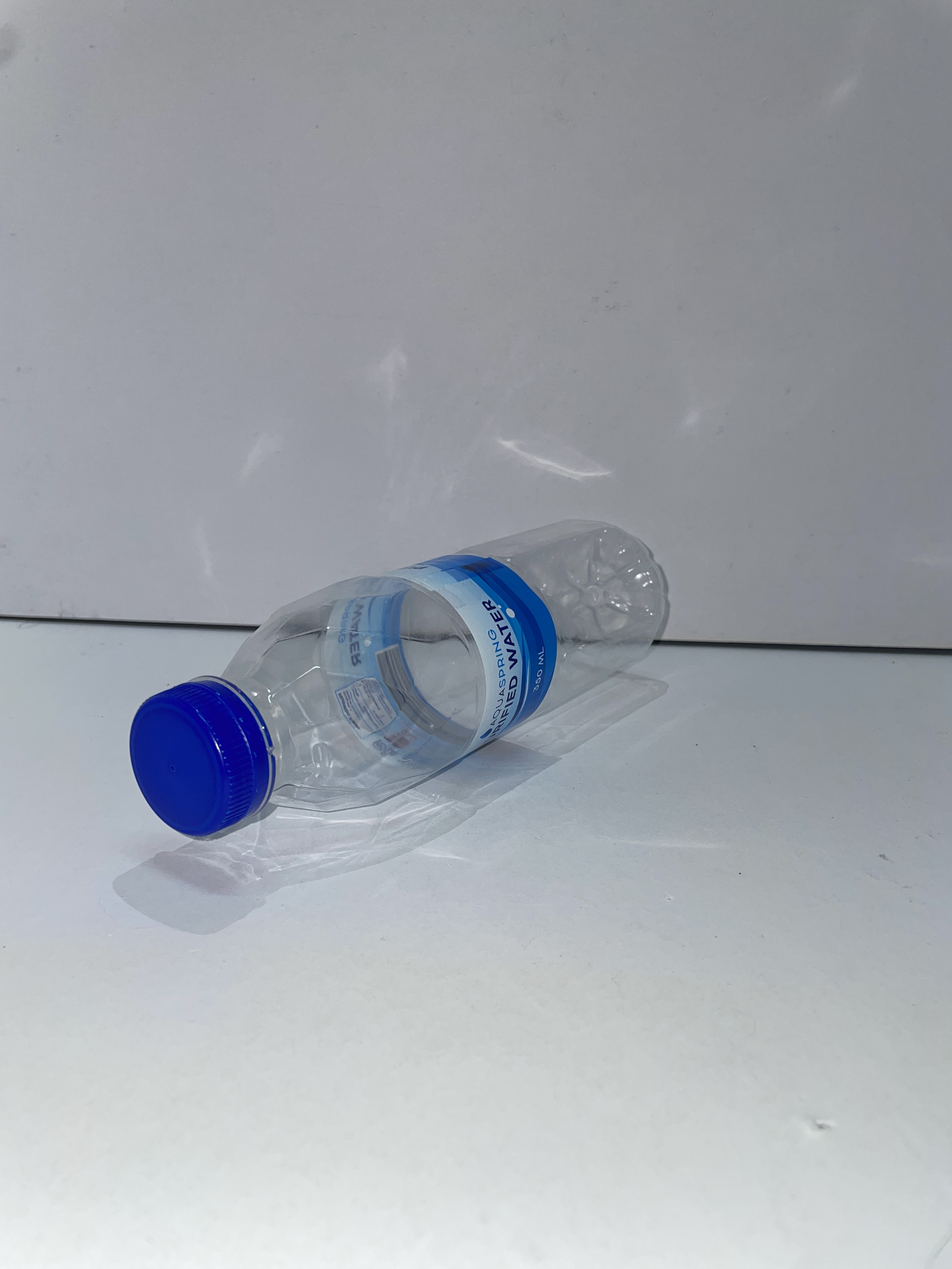Aquaspring 350ml: (130, 521, 666, 837)
